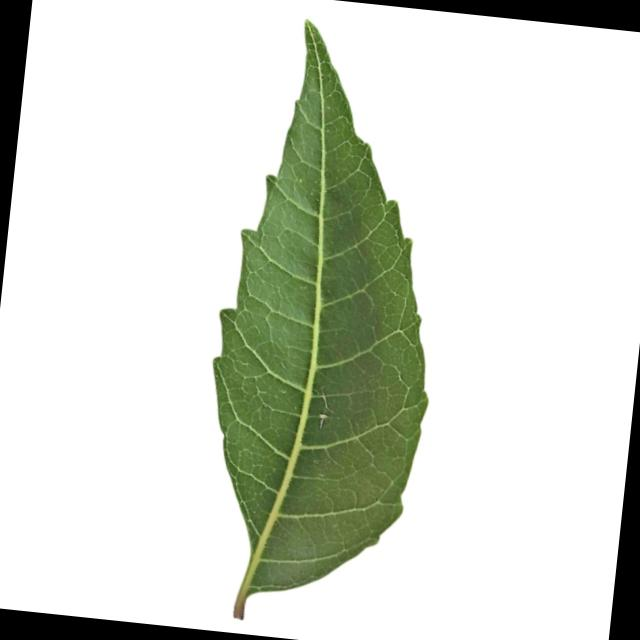Medicinal-Neem: (183, 6, 464, 634)
